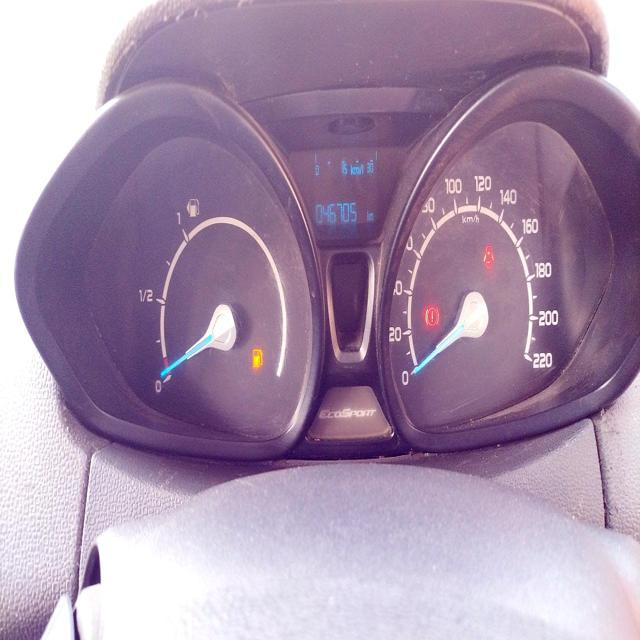odometer: (314, 200, 358, 223)
